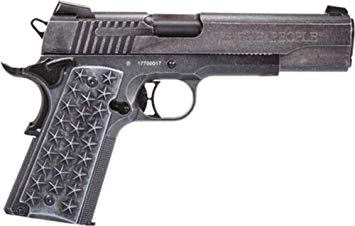gun: (1, 1, 355, 223)
